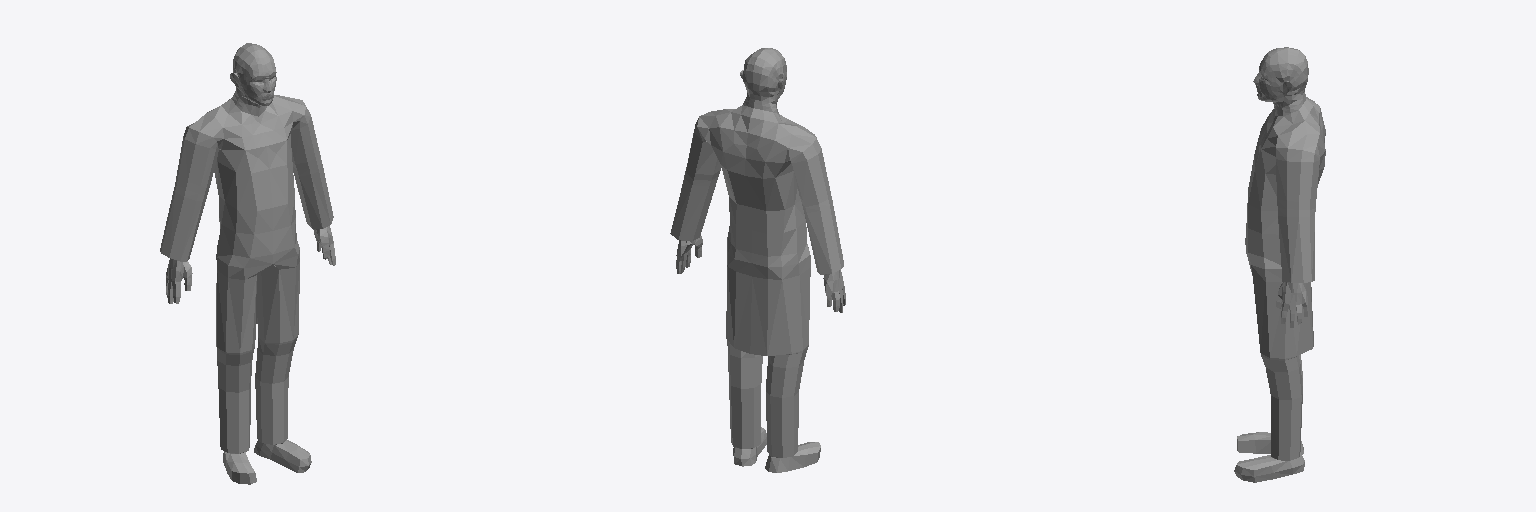
The model's file is Scientist.obj.
3 renders of one model, left to right at view 1: azimuth 30°, elevation 25°; view 2: azimuth 150°, elevation 25°; view 3: azimuth 270°, elevation 25°, orthographic.
Visible parts, largest first — view 1: scientist-col_Cube.000; view 2: scientist-col_Cube.000; view 3: scientist-col_Cube.000.
Part boxes in pixels (left/top/right/bottom): scientist-col_Cube.000: left=160, top=43, right=335, bottom=484; scientist-col_Cube.000: left=670, top=48, right=845, bottom=472; scientist-col_Cube.000: left=1234, top=47, right=1325, bottom=482.
Bounding box in the file's own units: 0.7323 × 1.73 × 0.3455.